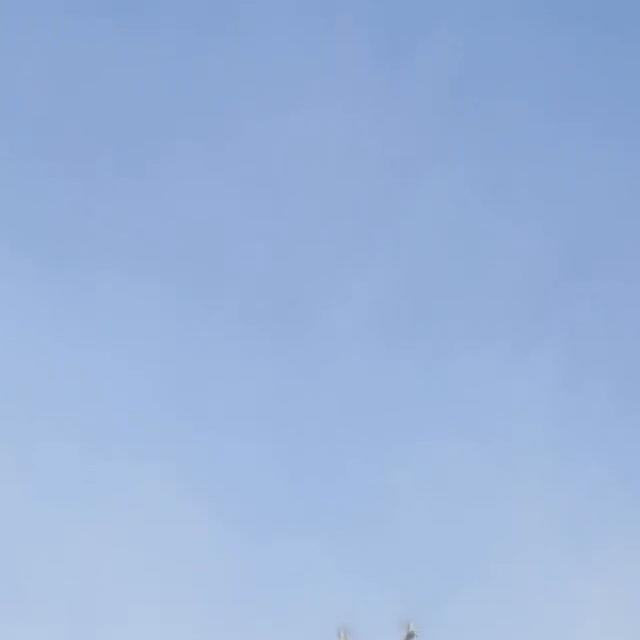drone: (323, 611, 437, 640)
